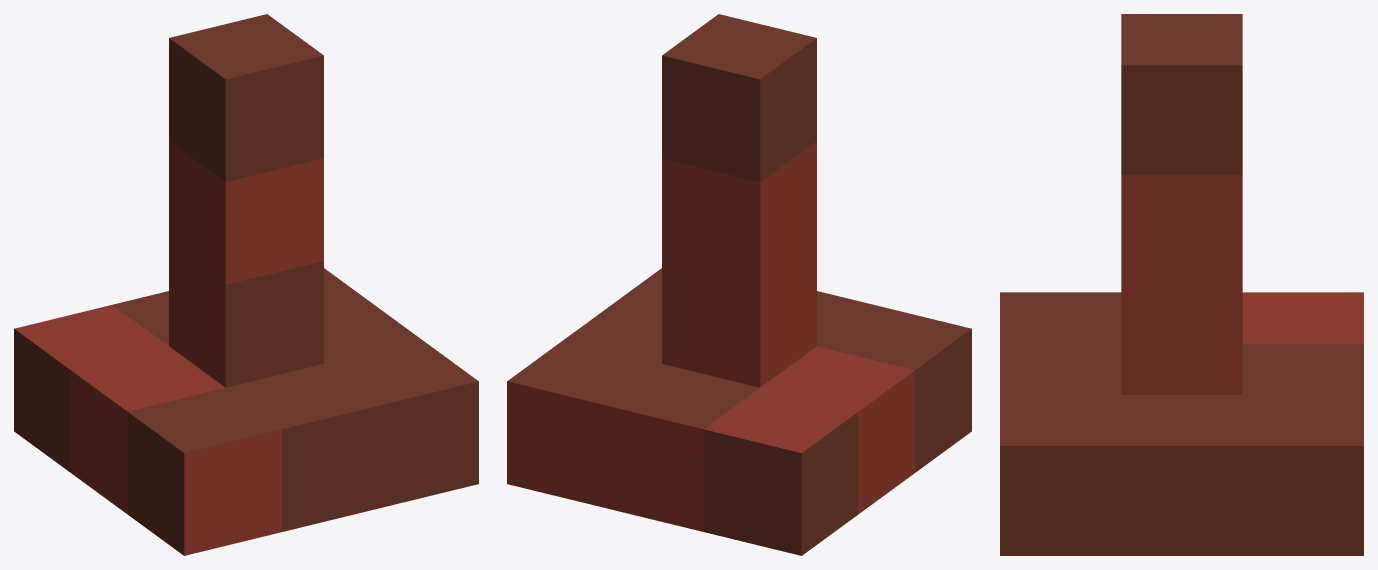
File: clutter2.fbx
The picture shows the model from 3 angles, left to right: view 1: azimuth 30°, elevation 25°; view 2: azimuth 150°, elevation 25°; view 3: azimuth 270°, elevation 25°; orthographic projection. The views are drawn at different scales.
Parts seen in each view (by area): view 1: cube, cube_1; view 2: cube, cube_1; view 3: cube, cube_1.
Part boxes in pixels (<box>): cube: <box>14,268,478,555</box>; cube_1: <box>169,14,323,387</box>; cube: <box>507,268,971,555</box>; cube_1: <box>662,14,816,387</box>; cube: <box>1000,292,1363,555</box>; cube_1: <box>1121,14,1242,394</box>.
Bounding box in the file's own units: 18.75 × 25 × 18.75.
1 material, 1 textured.
